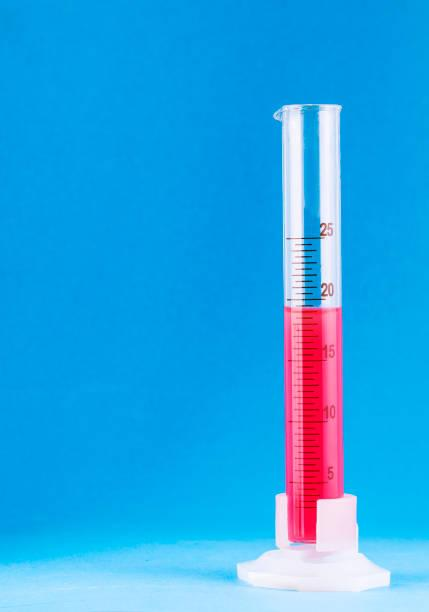Test tube: (266, 94, 360, 541)
